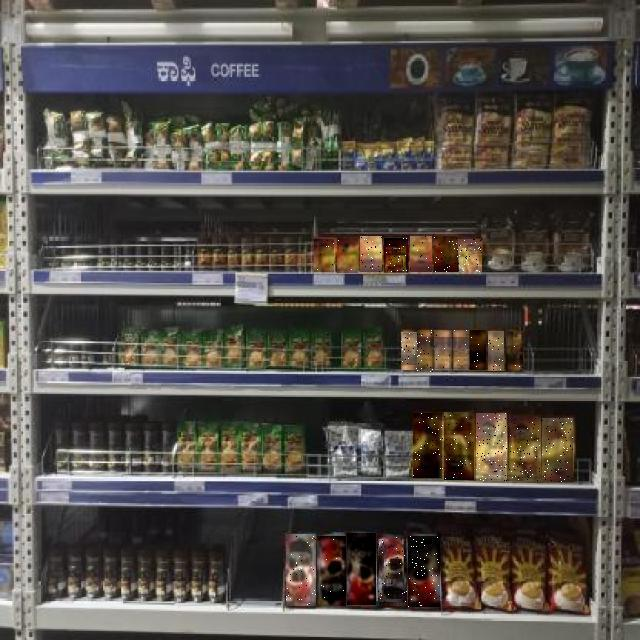Coffee: (408, 536, 440, 607), (287, 534, 317, 606), (476, 413, 507, 481), (347, 533, 376, 605), (444, 412, 474, 480), (317, 536, 346, 606), (509, 417, 540, 481), (542, 418, 573, 482), (378, 538, 407, 606), (414, 413, 444, 478), (434, 237, 458, 273), (384, 238, 408, 273), (410, 237, 432, 273), (361, 237, 383, 273), (458, 239, 482, 272), (337, 238, 358, 273), (434, 330, 452, 370), (417, 330, 434, 372), (506, 331, 523, 371), (315, 239, 335, 272), (471, 330, 487, 370), (488, 331, 504, 371), (453, 330, 469, 370), (401, 332, 417, 370)
